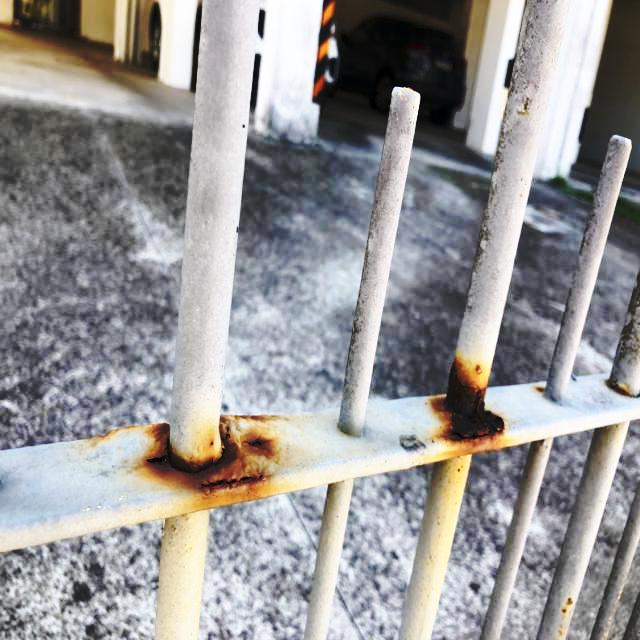Corrosion: (81, 411, 287, 517), (420, 355, 509, 458), (603, 374, 635, 405), (560, 595, 576, 621), (535, 385, 545, 396)
